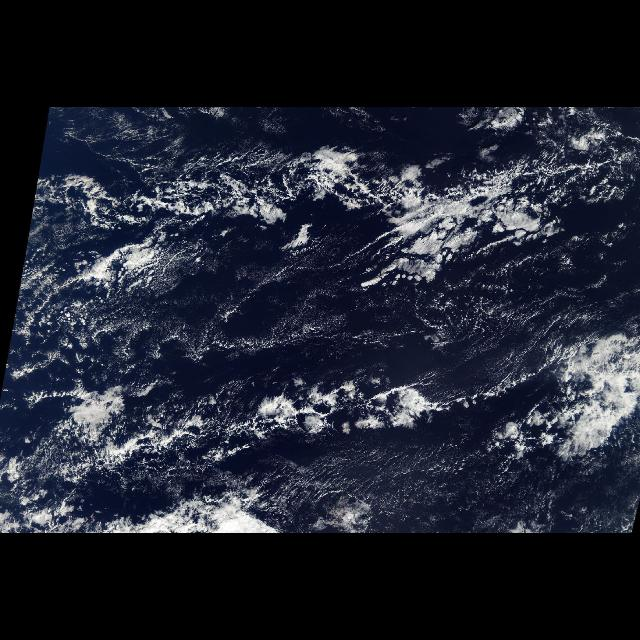Fish: (140, 164, 618, 223), (117, 401, 465, 455)
Sugar: (162, 234, 364, 398), (368, 294, 566, 378)
